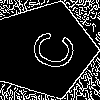C: (20, 25, 78, 74)
